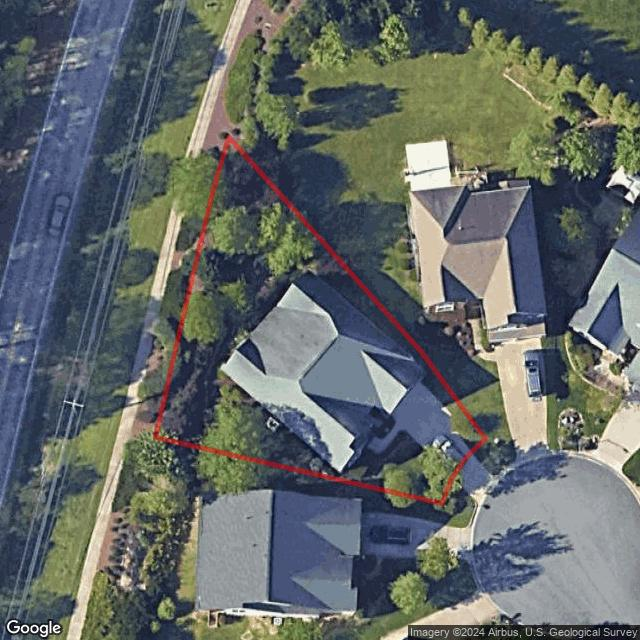Driveway: (389, 382, 473, 474)
Extra-Driveway: (454, 451, 496, 504)
Extra-Lawn: (441, 473, 477, 525), (470, 440, 509, 478)
House: (219, 270, 426, 476)
Lawn: (152, 138, 486, 506)
Other: (264, 414, 284, 434)
Sidewalk: (364, 423, 403, 456)
